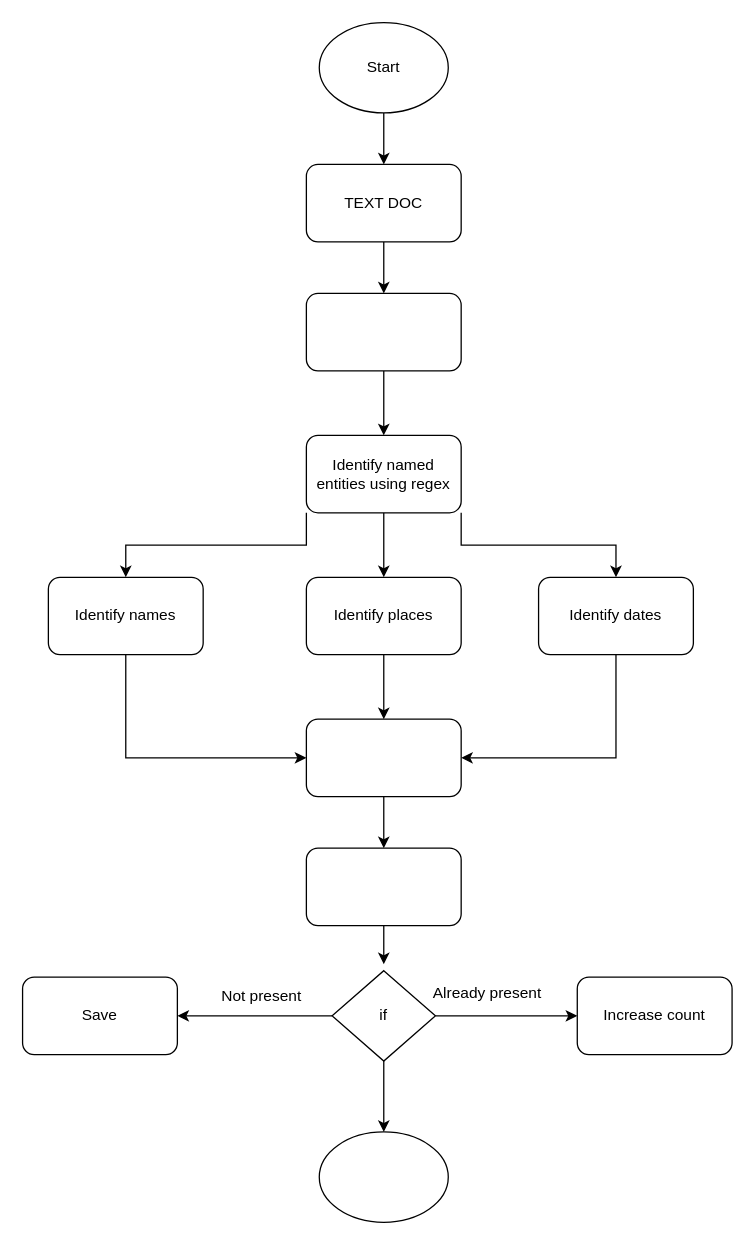
Some shapes in this 755 by 1245 pixel diagram are drawn without their labels. Here are the shapes that lost their labels. From the top down, the box of each, then its label:
(305, 292, 461, 371): Normalization of text
(305, 718, 461, 797): Output
(305, 847, 461, 926): Check if present
(318, 1131, 448, 1222): Stop
